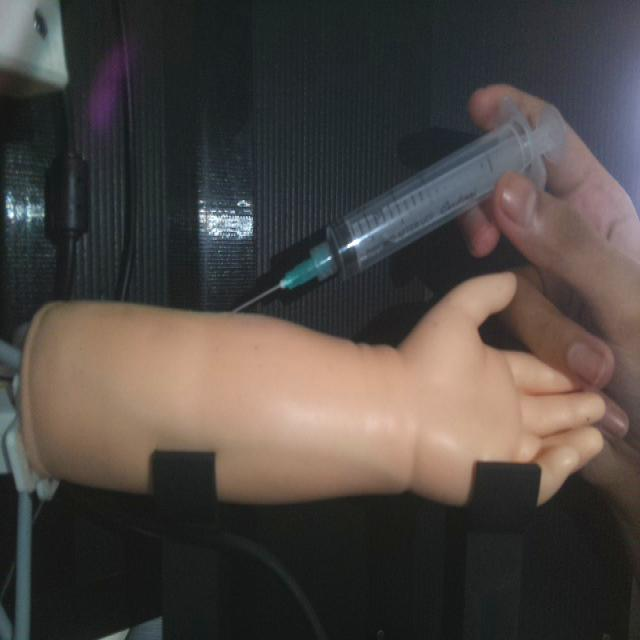Above 30 degrees: (228, 100, 565, 316)
